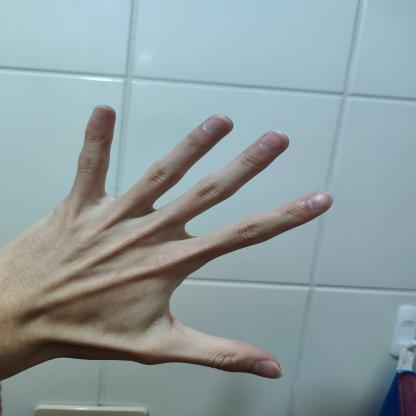bare_hand: (0, 92, 337, 393)
